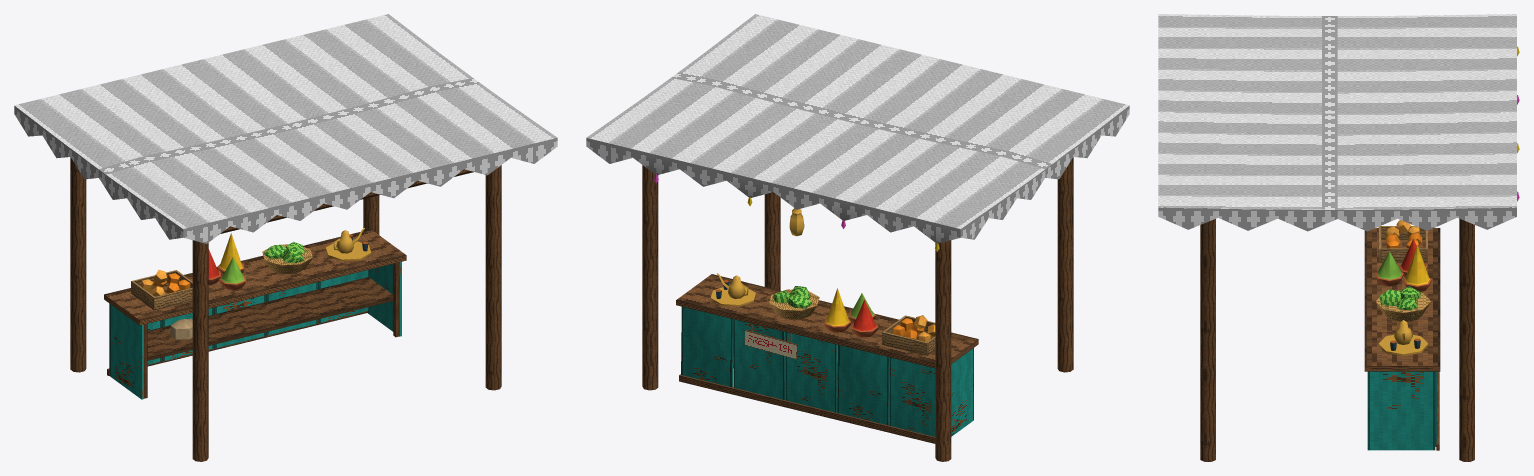
The model's file is p_stall.glb.
3 renders of one model, left to right at view 1: azimuth 30°, elevation 25°; view 2: azimuth 150°, elevation 25°; view 3: azimuth 270°, elevation 25°, orthographic. The views are drawn at different scales.
Visible parts, largest first — view 1: p_stall_lod0; view 2: p_stall_lod0; view 3: p_stall_lod0.
Part boxes in pixels (x1,y1,x2,y2): p_stall_lod0: [14, 14, 557, 461]; p_stall_lod0: [586, 14, 1129, 461]; p_stall_lod0: [1158, 14, 1519, 461].
Size of what is drawn, in the model's own units: 4.6 by 3.01 by 3.63.
3 materials, 2 textured.
